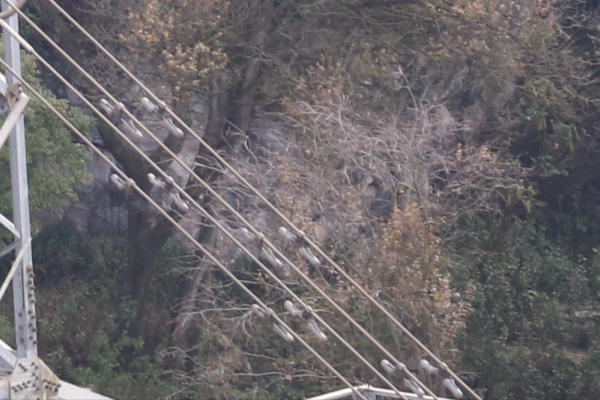damper: (139, 95, 187, 141), (276, 222, 322, 270), (417, 355, 466, 400), (97, 95, 144, 141), (281, 297, 328, 343), (238, 225, 284, 270), (249, 300, 294, 345), (146, 169, 190, 214), (381, 354, 425, 399), (104, 169, 136, 197)
